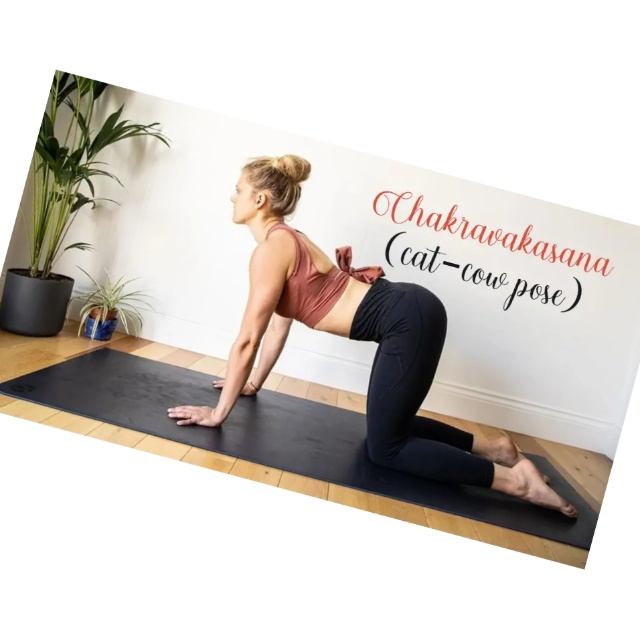Cow_Pose: (165, 154, 581, 520)
